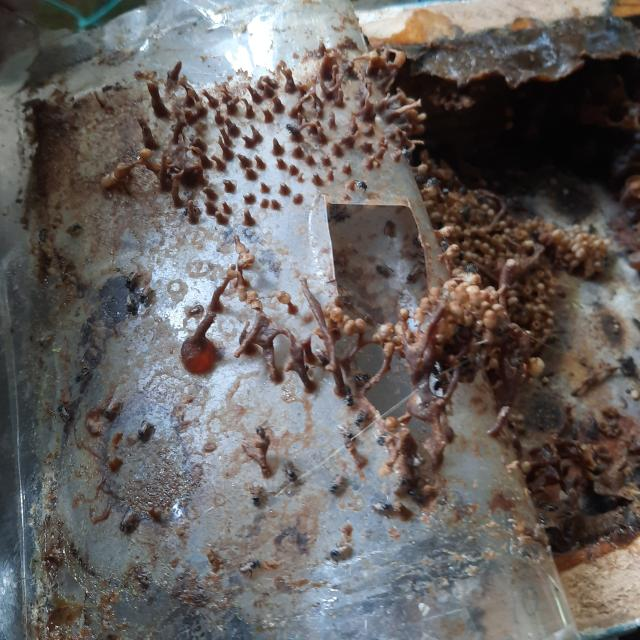honeybee: (114, 508, 150, 552), (231, 544, 265, 580), (132, 411, 166, 443), (106, 396, 130, 435), (369, 498, 406, 523), (329, 538, 359, 565), (283, 459, 312, 485), (355, 396, 375, 433), (338, 423, 356, 460), (330, 478, 350, 504), (350, 372, 380, 389), (395, 476, 422, 491), (122, 276, 136, 298), (143, 296, 155, 319), (382, 424, 392, 446)
